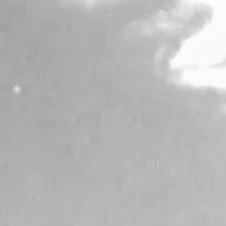Target: (14, 87, 19, 93)
